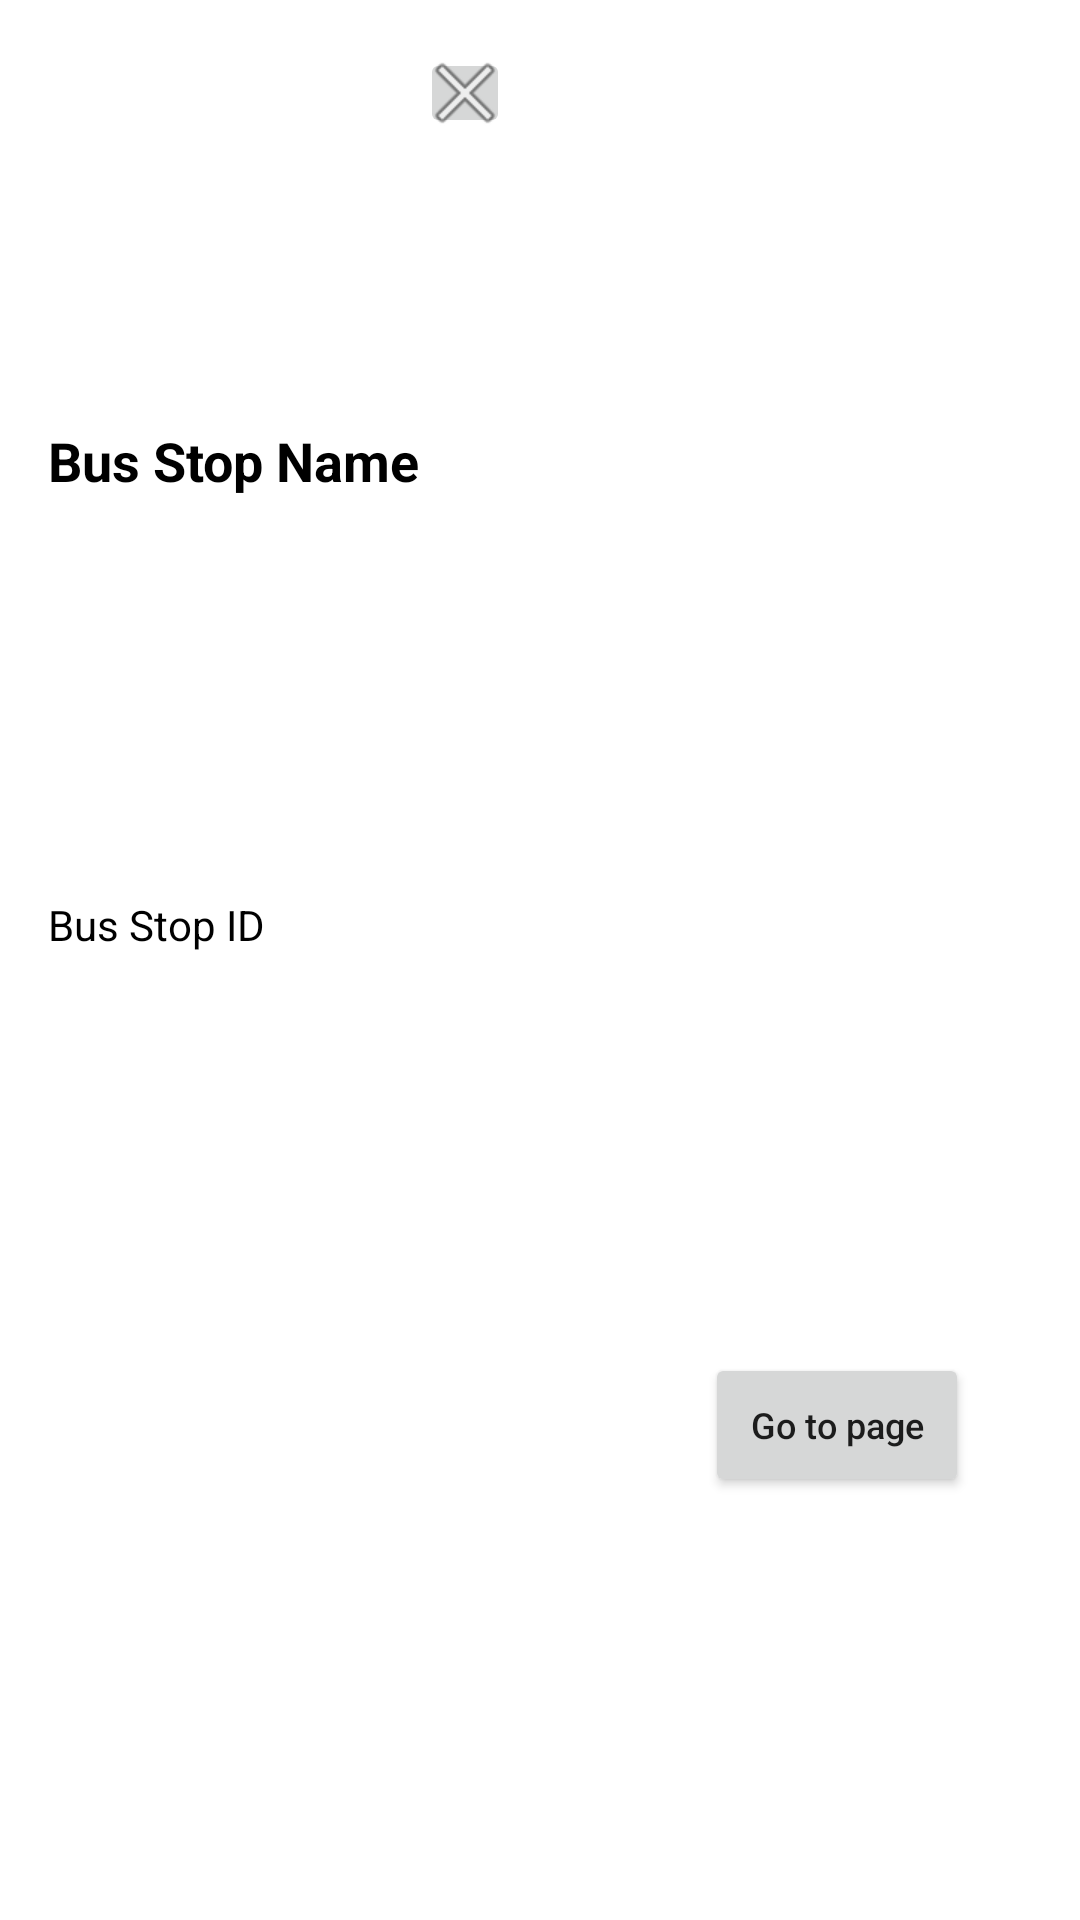

Point at icon controls on the screen. Image size 1080×1920, points as [x,y].
close clear cancel: [465,93]
